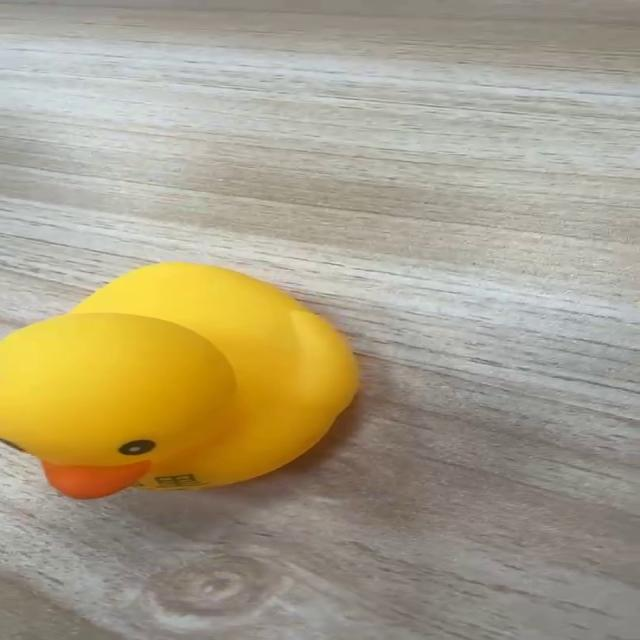yellow_duck: (0, 259, 360, 499)
